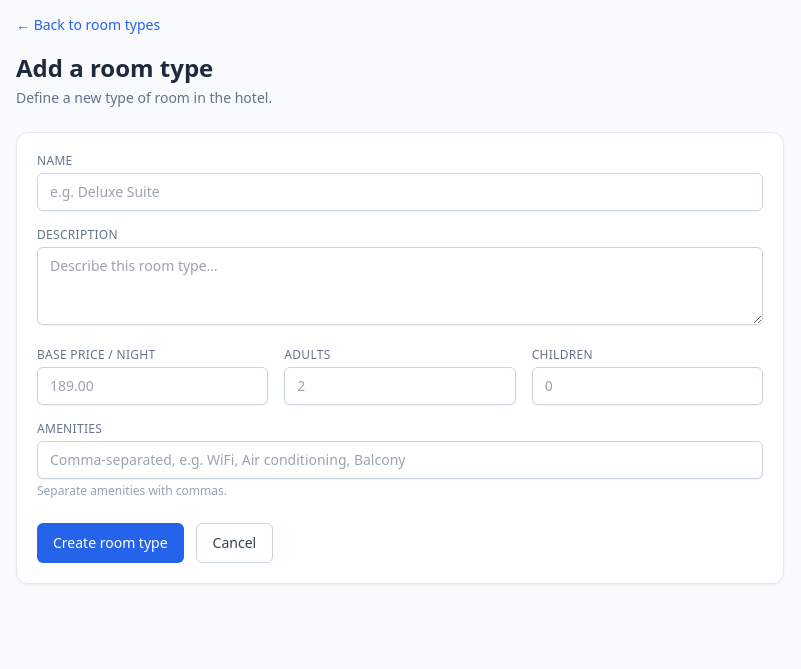
it: Staff room type form page › shows inline validation errors for an invalid form
Type "abc" into the field labelled "Base price / night". click: coordinates (153, 386)
box: [37,367,268,405]
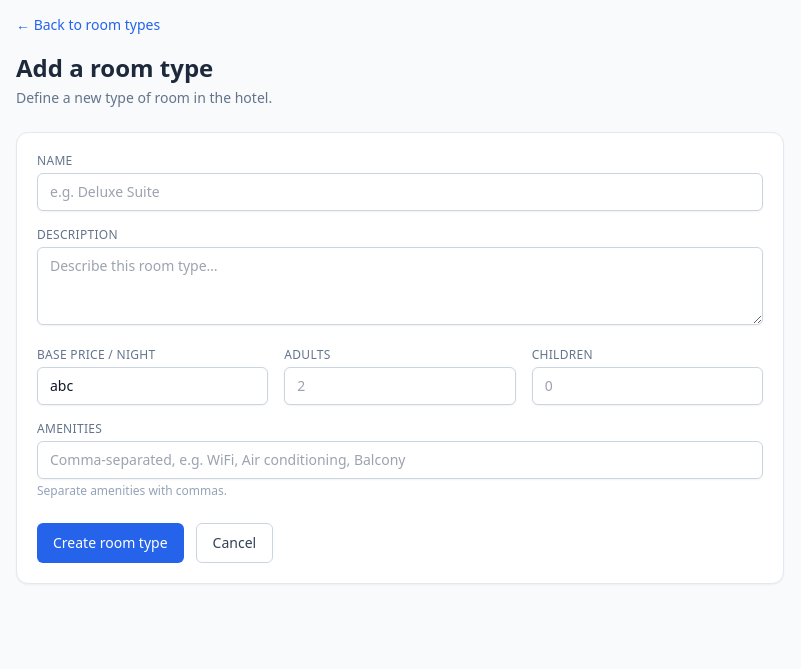
Type "0" into the number field labelled "Adults". click: coordinates (400, 386)
box: [284,367,516,405]
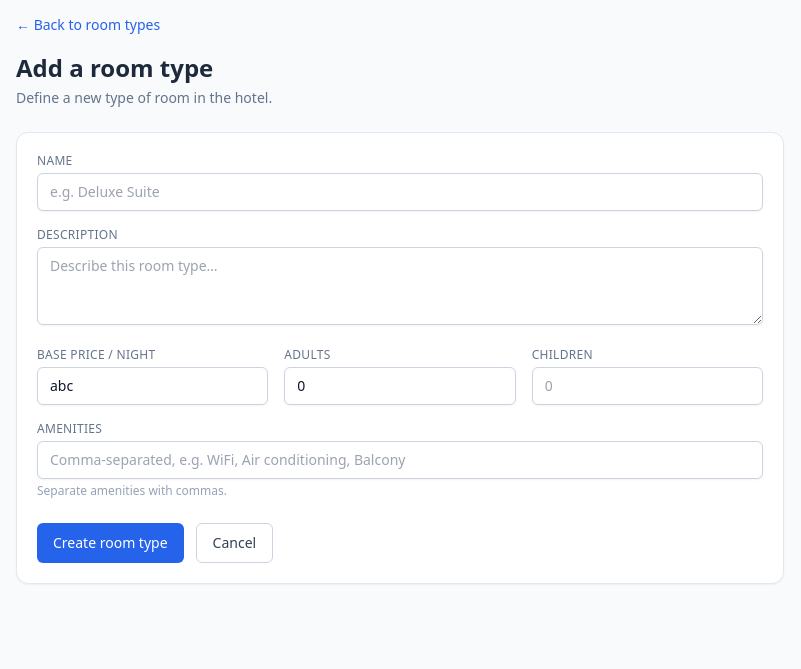
Click the button "Create room type". click: coordinates (110, 543)
box: [37,523,184,563]
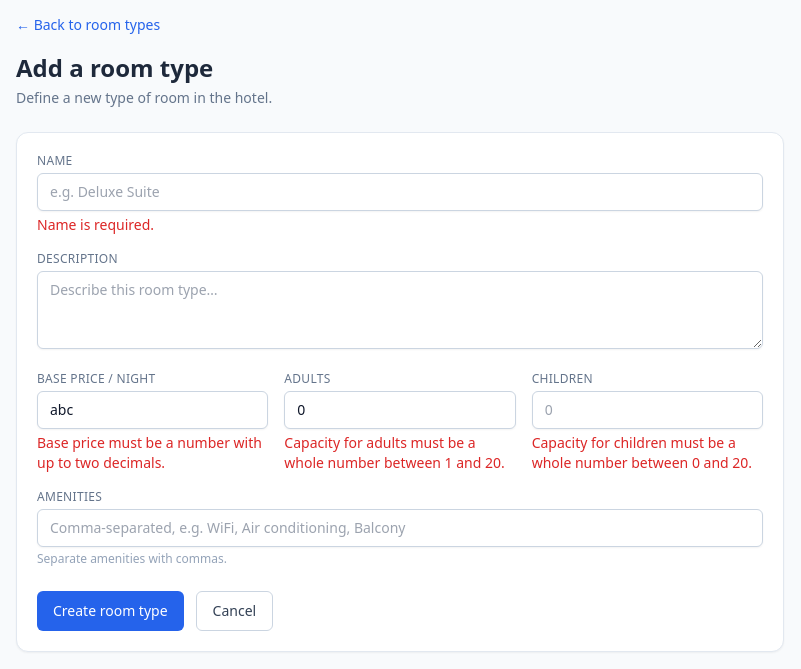
Expected: the text "Name is required." is shown, [37,215,154,234]
Expected: the text "Base price must be a number with up to two decimals." is shown, [37,433,268,473]
Expected: the text "Capacity for adults must be a whole number between 1 and 20." is shown, [284,433,516,473]
